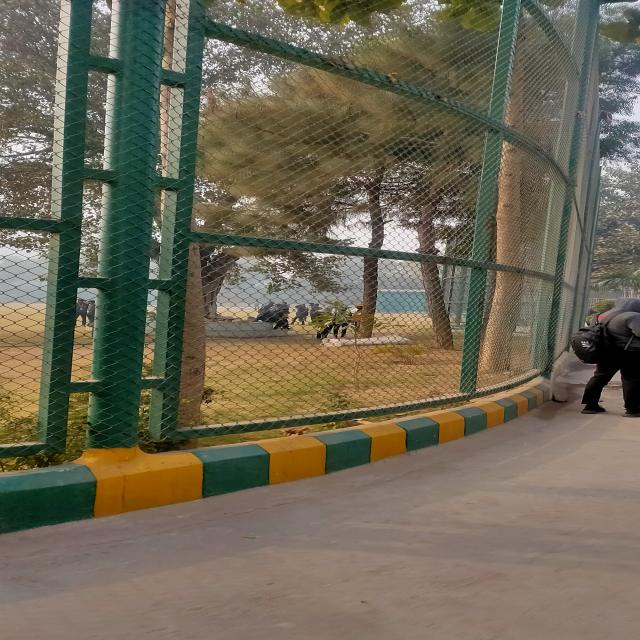unsafe: (580, 298, 639, 421)
